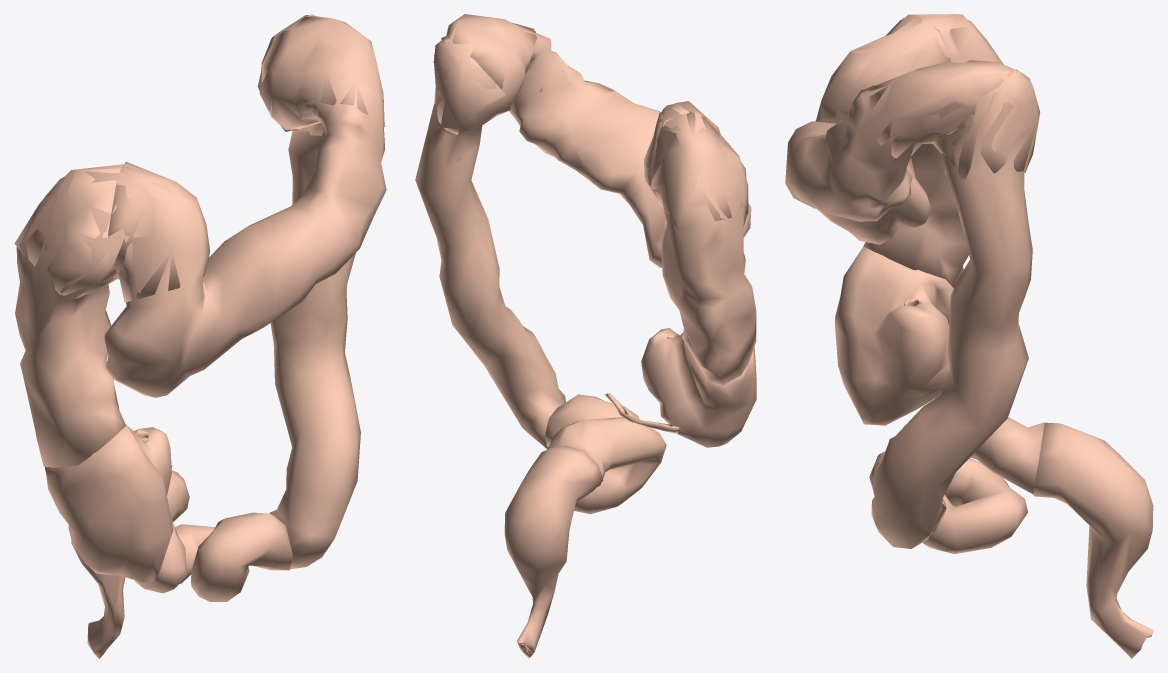
The model's file is 3d-sbu-m-large-intestine_lod_20.glb.
3 renders of one model, left to right at view 1: azimuth 30°, elevation 25°; view 2: azimuth 150°, elevation 25°; view 3: azimuth 270°, elevation 25°, orthographic. The views are drawn at different scales.
Visible parts, largest first — view 1: VH_M_transverse_colon, VH_M_ascending_colon, VH_M_descending_colon, VH_M_caecum, VH_M_sigmoid_colon, VH_M_hepatic_flexure_of_colon, VH_M_splenic_flexure_of_colon, VH_M_rectum; view 2: VH_M_descending_colon, VH_M_transverse_colon, VH_M_ascending_colon, VH_M_rectum, VH_M_caecum, VH_M_sigmoid_colon, VH_M_splenic_flexure_of_colon, VH_M_hepatic_flexure_of_colon, VH_M_vermiform_appendix; view 3: VH_M_descending_colon, VH_M_transverse_colon, VH_M_caecum, VH_M_rectum, VH_M_sigmoid_colon, VH_M_splenic_flexure_of_colon, VH_M_ascending_colon, VH_M_hepatic_flexure_of_colon.
Boxes of the visible parts, x1,y1,x2,y2 form: VH_M_transverse_colon: (104,17,386,397); VH_M_ascending_colon: (15,168,125,467); VH_M_descending_colon: (257,14,360,569); VH_M_caecum: (45,424,173,582); VH_M_sigmoid_colon: (135,470,292,601); VH_M_hepatic_flexure_of_colon: (14,162,210,302); VH_M_splenic_flexure_of_colon: (259,15,384,135); VH_M_rectum: (68,525,125,658); VH_M_descending_colon: (415,39,565,449); VH_M_transverse_colon: (441,14,751,267); VH_M_ascending_colon: (650,112,756,385); VH_M_rectum: (504,446,603,658); VH_M_caecum: (641,328,756,447); VH_M_sigmoid_colon: (545,394,666,514); VH_M_splenic_flexure_of_colon: (434,14,536,134); VH_M_hepatic_flexure_of_colon: (644,101,748,230); VH_M_vermiform_appendix: (604,393,679,433); VH_M_descending_colon: (871,69,1039,548); VH_M_transverse_colon: (785,16,1012,244); VH_M_caecum: (835,246,953,425); VH_M_rectum: (1033,422,1153,658); VH_M_sigmoid_colon: (869,417,1044,554); VH_M_splenic_flexure_of_colon: (869,60,1040,178); VH_M_ascending_colon: (863,14,1003,287); VH_M_hepatic_flexure_of_colon: (821,14,970,122).
Size of the model in its own units: 0.2598 by 0.4514 by 0.2246.
